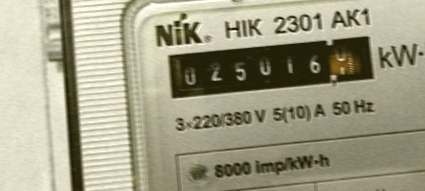0: (260, 56, 276, 80), (185, 66, 200, 90), (335, 44, 349, 65)
1: (285, 53, 298, 79), (339, 67, 348, 79)
2: (210, 61, 225, 85)
5: (236, 62, 248, 84)
6: (309, 53, 324, 79)
screen: (160, 28, 386, 109)
